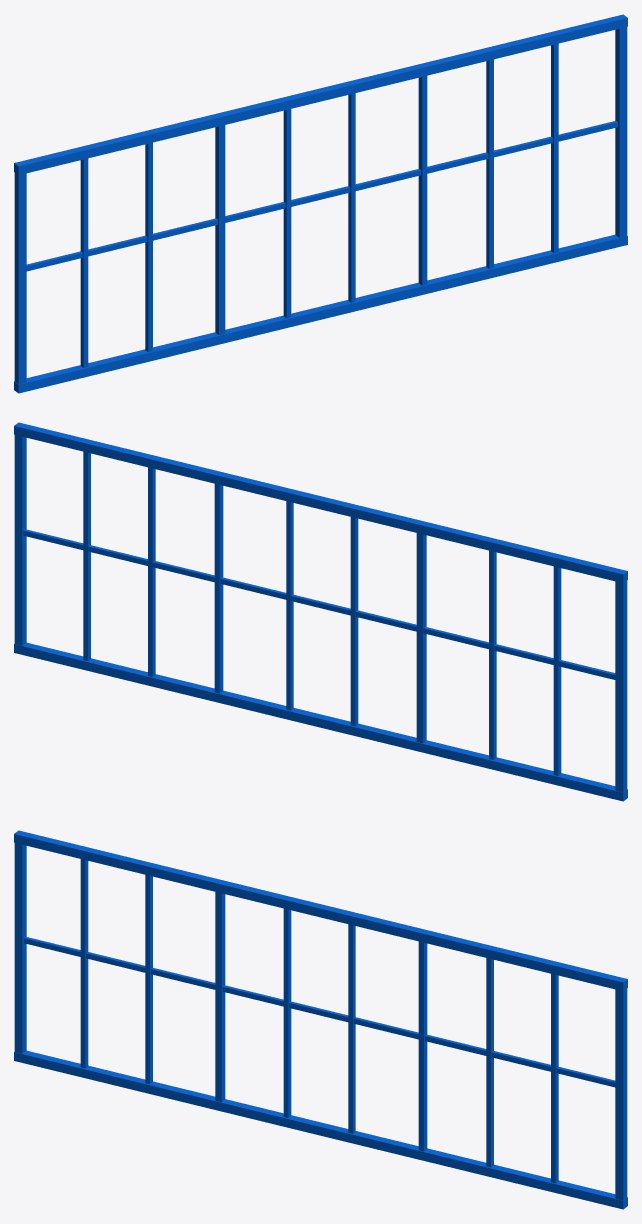
File: Warehouse_04_Window_01.fbx
3 views of the same model, one above another, from view 1: azimuth 30°, elevation 25°; view 2: azimuth 150°, elevation 25°; view 3: azimuth 330°, elevation 25° (orthographic).
Parts seen in each view (by area): view 1: Warehouse_04_Window_01; view 2: Warehouse_04_Window_01; view 3: Warehouse_04_Window_01.
Boxes of the visible parts, bbox=[...] form: Warehouse_04_Window_01: bbox=[14, 14, 627, 393]; Warehouse_04_Window_01: bbox=[14, 422, 627, 801]; Warehouse_04_Window_01: bbox=[14, 830, 627, 1209].
Size of the model in its own units: 1212 by 432 by 16.2.
